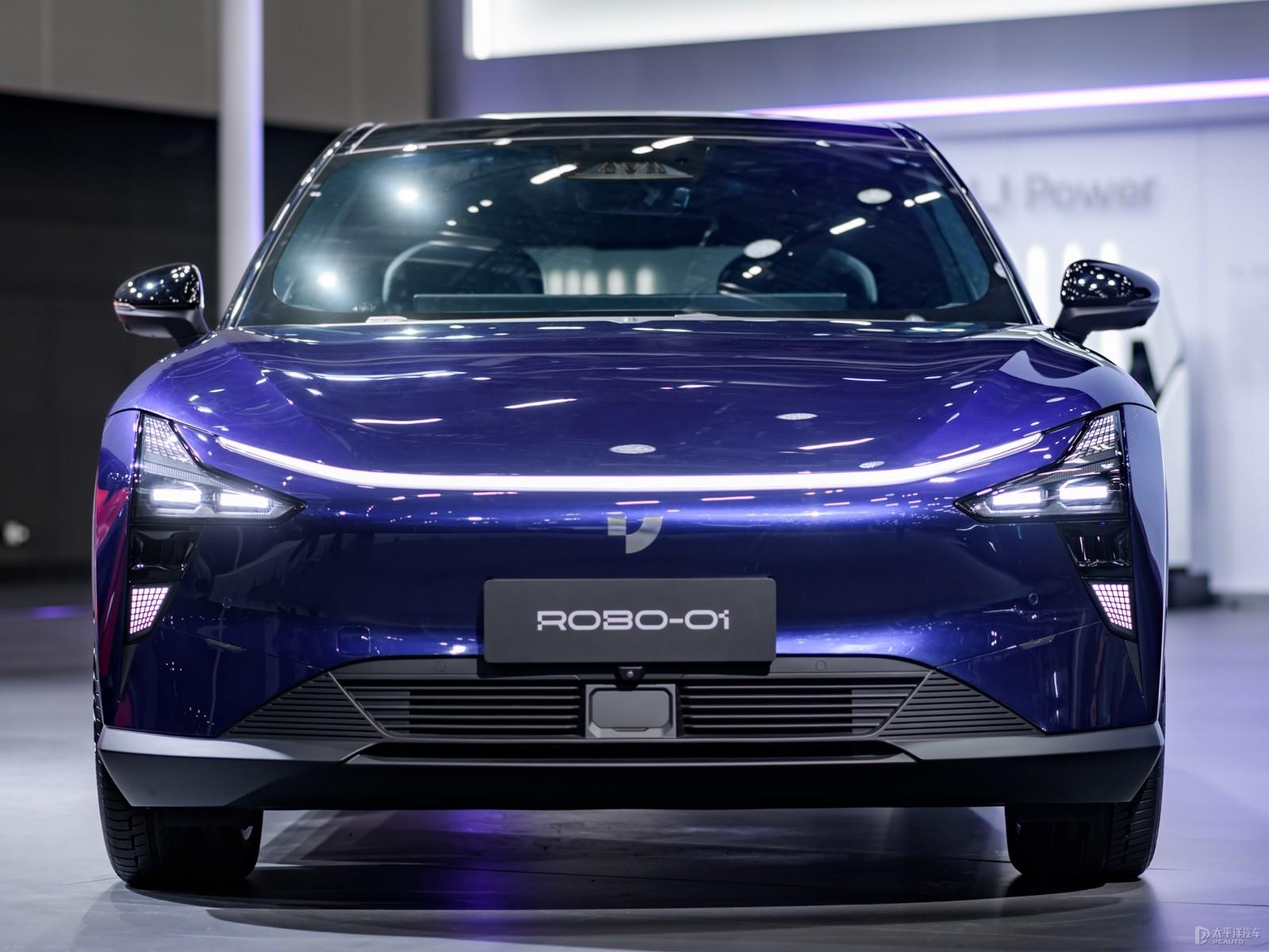JIYUE: (606, 515, 665, 556)
